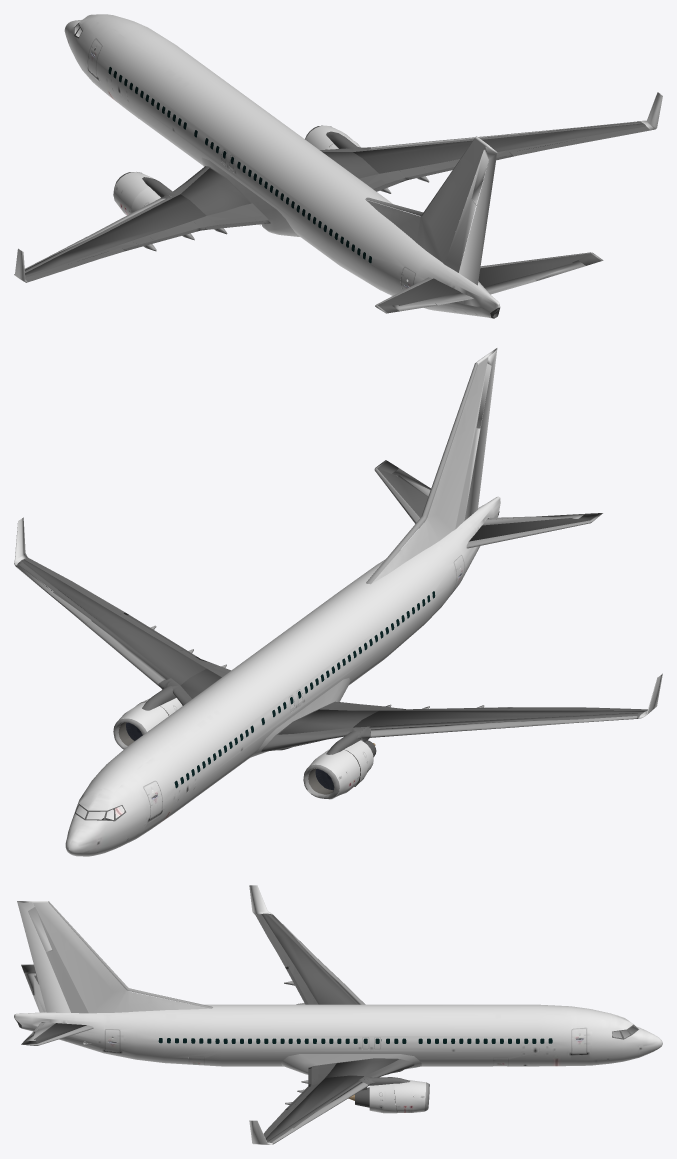
3 views of the same model, one above another, from view 1: azimuth 30°, elevation 25°; view 2: azimuth 150°, elevation 25°; view 3: azimuth 270°, elevation 25° (orthographic). The views are drawn at different scales.
Parts seen in each view (by area): view 1: rootNode; view 2: rootNode; view 3: rootNode.
Part boxes in pixels (x1=…): rootNode: x1=14, y1=14, x2=662, y2=318; rootNode: x1=14, y1=348, x2=662, y2=856; rootNode: x1=14, y1=885, x2=662, y2=1144.
Bounding box in the file's own units: 34.85 × 12.11 × 40.62.
6 materials, 6 textured.
